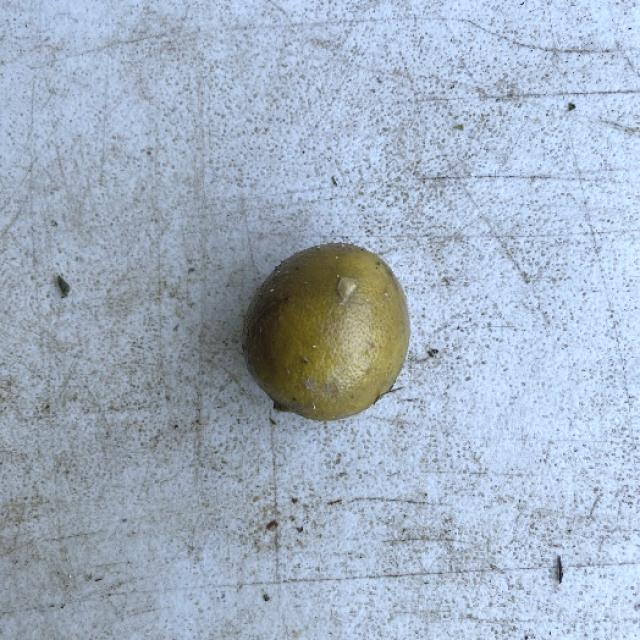organic: (214, 215, 444, 447)
